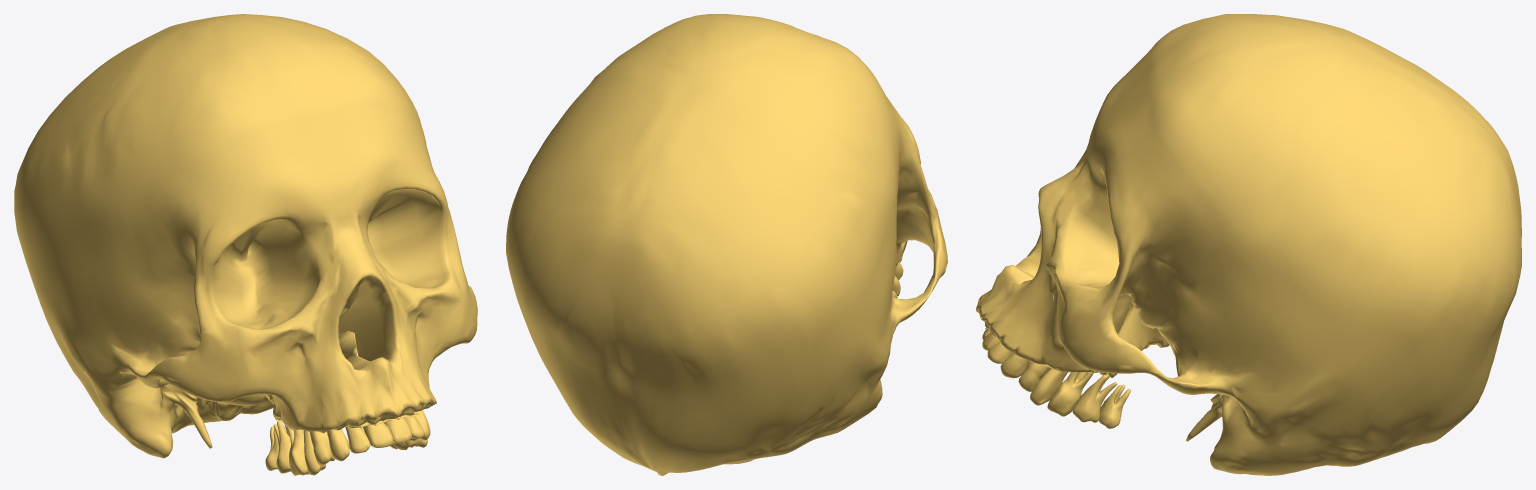
The model's file is skull.dae.
3 renders of one model, left to right at view 1: azimuth 30°, elevation 25°; view 2: azimuth 150°, elevation 25°; view 3: azimuth 270°, elevation 25°, orthographic. The views are drawn at different scales.
Visible parts, largest first — view 1: skull_whole, Skull4, Skull9, Skull7, Skull12, Skull3, Skull6; view 2: skull_whole; view 3: skull_whole, Skull8, Skull10, Skull15, Skull13.
Part boxes in pixels (x1=…): skull_whole: x1=14, y1=14, x2=477, y2=458; Skull4: x1=363, y1=417, x2=411, y2=447; Skull9: x1=287, y1=427, x2=309, y2=475; Skull7: x1=273, y1=420, x2=291, y2=473; Skull12: x1=310, y1=431, x2=334, y2=465; Skull3: x1=327, y1=429, x2=349, y2=461; Skull6: x1=345, y1=426, x2=370, y2=453; skull_whole: x1=506, y1=14, x2=947, y2=475; skull_whole: x1=976, y1=14, x2=1521, y2=475; Skull8: x1=1047, y1=372, x2=1093, y2=416; Skull10: x1=1072, y1=373, x2=1117, y2=422; Skull15: x1=1098, y1=384, x2=1130, y2=428; Skull13: x1=1030, y1=368, x2=1067, y2=405.
Size of the model in its own units: 6.19 by 6.92 by 8.38.
